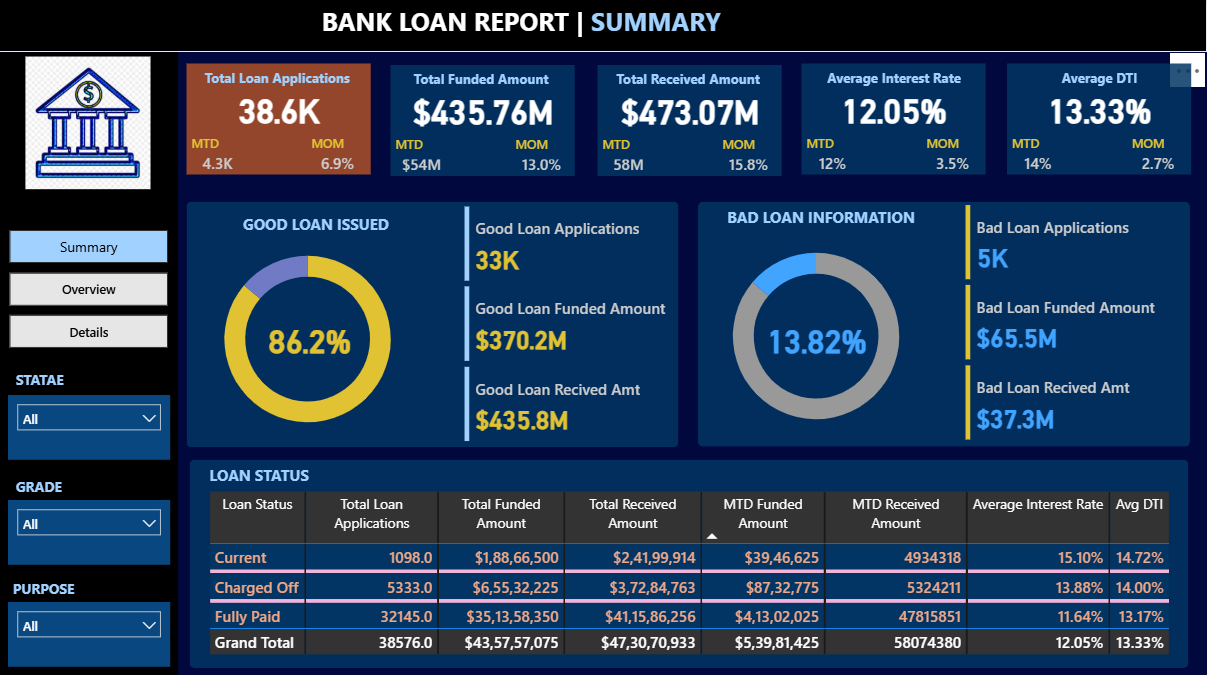

What the dashboard file says about the page in this screenshot:
{"tool":"powerbi","page":{"name":"Summary","canvas":[1280,720],"ordinal":0},"visuals":[{"type":"shape","box":[0,55.7,190,664.9],"z":0},{"type":"shape","box":[0,0,1280.4,55],"z":1000},{"type":"textbox","box":[337.2,0,470.8,55.7],"z":2000},{"type":"shape","box":[851.4,68.3,195.6,117.7],"z":3000,"group":"g5"},{"type":"shape","box":[1068.3,68.3,195.6,117.7],"z":3000,"group":"g6"},{"type":"group","id":"g1","title":"Group 1","box":[198.2,68.6,195.6,117.7],"z":3000},{"type":"shape","box":[198.2,68.6,195.6,117.7],"z":3000,"group":"g3"},{"type":"shape","box":[415.8,70,195.6,117.7],"z":3000,"group":"g2"},{"type":"shape","box":[634.4,70,195.6,117.7],"z":3000,"group":"g4"},{"type":"card","fields":{"Values":["Bank_Loan_Data.Avg Interest Rate"]},"box":[851.4,87.4,195.6,55.7],"z":4000,"group":"g5"},{"type":"card","fields":{"Values":["Bank_Loan_Data.Avg DTI"]},"box":[1068.3,87.4,195.6,55.7],"z":4000,"group":"g6"},{"type":"card","fields":{"Values":["Bank_Loan_Data.Total Loan Applications"]},"box":[198.2,87.7,195.6,55.7],"z":4000,"group":"g3"},{"type":"card","fields":{"Values":["Bank_Loan_Data.Total Funded Amount"]},"box":[415.8,89.1,195.6,55.7],"z":4000,"group":"g2"},{"type":"card","fields":{"Values":["Bank_Loan_Data.Total Amount Received"]},"box":[634.4,89.1,195.6,55.7],"z":4000,"group":"g4"},{"type":"shape","box":[198.8,214.7,521.7,260.9],"z":4000},{"type":"textbox","box":[851.4,68.3,192.5,38.2],"z":5000,"group":"g5"},{"type":"textbox","box":[1068.3,68.3,192.5,38.2],"z":5000,"group":"g6"},{"type":"textbox","box":[198.2,68.6,192.5,38.2],"z":5000,"group":"g3"},{"type":"group","id":"g2","title":"Group 2","box":[415.8,70,196.7,118.3],"z":5000},{"type":"textbox","box":[415.8,70,192.5,38.2],"z":5000,"group":"g2"},{"type":"textbox","box":[634.4,70,192.5,38.2],"z":5000,"group":"g4"},{"type":"card","title":"MTD","fields":{"Values":["Bank_Loan_Data.MTD Avg_Interest Rate"]},"box":[851.4,143.1,65.2,42.9],"z":6000,"group":"g5"},{"type":"card","title":"MTD","fields":{"Values":["Bank_Loan_Data.MTD avg dti"]},"box":[1068.3,143.1,65.2,42.9],"z":6000,"group":"g6"},{"type":"card","title":"MTD","fields":{"Values":["Bank_Loan_Data.MTD Loan Applications"]},"box":[198.2,143.4,65.2,42.9],"z":6000,"group":"g3"},{"type":"card","title":"MTD","fields":{"Values":["Bank_Loan_Data.MTD FUNDED AMOUNT"]},"box":[415.8,144.8,65.2,42.9],"z":6000,"group":"g2"},{"type":"card","title":"MTD","fields":{"Values":["Bank_Loan_Data.MTD RECIEVED TOTAL AMOUNT"]},"box":[634.4,144.8,65.2,42.9],"z":6000,"group":"g4"},{"type":"donutChart","fields":{"Category":["Bank_Loan_Data.Good vs Bad Loans"],"Y":["Bank_Loan_Data.Total Loan Applications"]},"box":[202,245,249.7,230.6],"z":6000},{"type":"card","title":"MOM","fields":{"Values":["Bank_Loan_Data.MOM Avg Interest Rate"]},"box":[978.6,143.1,65.2,42.9],"z":7000,"group":"g5"},{"type":"card","title":"MOM","fields":{"Values":["Bank_Loan_Data.MOM Avg dti"]},"box":[1195.5,143.1,65.2,42.9],"z":7000,"group":"g6"},{"type":"card","title":"MOM","fields":{"Values":["Bank_Loan_Data.MOM LOAN APPLICATIONS"]},"box":[325.4,143.4,65.2,42.9],"z":7000,"group":"g3"},{"type":"card","title":"MOM","fields":{"Values":["Bank_Loan_Data.MOM TOTAL  FUNDED AMOUNT"]},"box":[543,144.8,65.2,42.9],"z":7000,"group":"g2"},{"type":"card","title":"MOM","fields":{"Values":["Bank_Loan_Data.MOM TOTAL RECIVED AMOUNT"]},"box":[761.6,144.8,65.2,42.9],"z":7000,"group":"g4"},{"type":"card","fields":{"Values":["Bank_Loan_Data.Good Loan Percentage"]},"box":[263.3,331.7,130,56.7],"z":7000},{"type":"group","id":"g3","title":"Group 2","box":[198.2,68.6,195.6,117.7],"z":7002,"group":"g1"},{"type":"textbox","box":[240,223.3,191.7,38.3],"z":8000},{"type":"group","id":"g4","title":"Group 2","box":[634.4,70,195,116.7],"z":9000},{"type":"group","id":"g5","title":"Group 2","box":[851.4,68.3,195,116.7],"z":10000},{"type":"group","id":"g6","title":"Group 2","box":[1068.3,68.3,195,116.7],"z":11000},{"type":"shape","box":[741.7,215,521.7,260],"z":12000},{"type":"cardVisual","fields":{"Data":["Bank_Loan_Data.Good LOan Applications","Bank_Loan_Data.Good Loan Funded Amount","Bank_Loan_Data.Good Loan Recived Amt"]},"box":[488.3,214.7,245,260.9],"z":13000},{"type":"donutChart","fields":{"Category":["Bank_Loan_Data.Good vs Bad Loans"],"Y":["Bank_Loan_Data.Total Loan Applications"]},"box":[741.2,241.8,249.7,230.6],"z":14000},{"type":"textbox","box":[741.2,214.7,260.9,38.2],"z":15000},{"type":"cardVisual","fields":{"Data":["Bank_Loan_Data.Bad Loan Applications","Bank_Loan_Data.Bad Loan Funded Amount","Bank_Loan_Data.Bad Loan Recived Amt"]},"box":[1019.6,213.1,245,260.9],"z":16000},{"type":"card","fields":{"Values":["Bank_Loan_Data.Bad Loan Percentage"]},"box":[801.7,332.4,130.4,55.7],"z":17000},{"type":"shape","box":[202,488.3,1059.3,221.1],"z":18000},{"type":"tableEx","fields":{"Values":["Bank_Loan_Data.loan_status","Bank_Loan_Data.Total Loan Applications","Bank_Loan_Data.Total Funded Amount","Bank_Loan_Data.Total Amount Received","Bank_Loan_Data.MTD FUNDED AMOUNT","Bank_Loan_Data.MTD RECIEVED TOTAL AMOUNT","Bank_Loan_Data.Avg Interest Rate","Bank_Loan_Data.Avg DTI"]},"box":[217.9,516.9,1043.4,190.9],"z":19000},{"type":"textbox","box":[198.8,488.3,154.3,38.2],"z":20000},{"type":"slicer","fields":{"Values":["Bank_Loan_Data.address_state"]},"box":[9.5,419.9,171.8,68.4],"z":21000},{"type":"textbox","box":[12.7,388.1,111.3,30.2],"z":22000},{"type":"slicer","fields":{"Values":["Bank_Loan_Data.grade"]},"box":[9.5,531.3,171.8,68.4],"z":23000},{"type":"textbox","box":[12.7,501,111.3,30.2],"z":24000},{"type":"slicer","fields":{"Values":["Bank_Loan_Data.purpose"]},"box":[9.5,639.4,171.8,68.4],"z":25000},{"type":"textbox","box":[9.5,609.2,111.3,30.2],"z":26000},{"type":"image","box":[0,55.7,189.3,151.1],"z":27000},{"type":"pageNavigator","box":[11.1,245,168.6,127.2],"z":28000}]}

Visuals, with their boxes in screenshot pixels (x1, y1, x2, y2), scaled from the page's 1280x720 canvas onto the 1207x675 screenshot:
shape: detection(0, 52, 179, 674)
shape: detection(0, 0, 1206, 52)
textbox: detection(318, 0, 762, 52)
shape: detection(803, 64, 987, 174)
shape: detection(1007, 64, 1192, 174)
"Group 1" group: detection(187, 64, 371, 175)
shape: detection(187, 64, 371, 175)
shape: detection(392, 66, 577, 176)
shape: detection(598, 66, 783, 176)
card - Bank_Loan_Data.Avg Interest Rate: detection(803, 82, 987, 134)
card - Bank_Loan_Data.Avg DTI: detection(1007, 82, 1192, 134)
card - Bank_Loan_Data.Total Loan Applications: detection(187, 82, 371, 134)
card - Bank_Loan_Data.Total Funded Amount: detection(392, 84, 577, 136)
card - Bank_Loan_Data.Total Amount Received: detection(598, 84, 783, 136)
shape: detection(187, 201, 679, 446)
textbox: detection(803, 64, 984, 100)
textbox: detection(1007, 64, 1189, 100)
textbox: detection(187, 64, 368, 100)
"Group 2" group: detection(392, 66, 578, 177)
textbox: detection(392, 66, 574, 101)
textbox: detection(598, 66, 780, 101)
"MTD" card: detection(803, 134, 864, 174)
"MTD" card: detection(1007, 134, 1069, 174)
"MTD" card: detection(187, 134, 248, 175)
"MTD" card: detection(392, 136, 454, 176)
"MTD" card: detection(598, 136, 660, 176)
donutChart - Bank_Loan_Data.Good vs Bad Loans x Bank_Loan_Data.Total Loan Applications: detection(190, 230, 426, 446)
"MOM" card: detection(923, 134, 984, 174)
"MOM" card: detection(1127, 134, 1189, 174)
"MOM" card: detection(307, 134, 368, 175)
"MOM" card: detection(512, 136, 574, 176)
"MOM" card: detection(718, 136, 780, 176)
card - Bank_Loan_Data.Good Loan Percentage: detection(248, 311, 371, 364)
"Group 2" group: detection(187, 64, 371, 175)
textbox: detection(226, 209, 407, 245)
"Group 2" group: detection(598, 66, 782, 175)
"Group 2" group: detection(803, 64, 987, 173)
"Group 2" group: detection(1007, 64, 1191, 173)
shape: detection(699, 202, 1191, 445)
cardVisual - Bank_Loan_Data.Good LOan Applications x Bank_Loan_Data.Good Loan Funded Amount: detection(460, 201, 691, 446)
donutChart - Bank_Loan_Data.Good vs Bad Loans x Bank_Loan_Data.Total Loan Applications: detection(699, 227, 934, 443)
textbox: detection(699, 201, 945, 237)
cardVisual - Bank_Loan_Data.Bad Loan Applications x Bank_Loan_Data.Bad Loan Funded Amount: detection(961, 200, 1192, 444)
card - Bank_Loan_Data.Bad Loan Percentage: detection(756, 312, 879, 364)
shape: detection(190, 458, 1189, 665)
tableEx - Bank_Loan_Data.loan_status x Bank_Loan_Data.Total Loan Applications: detection(205, 485, 1189, 664)
textbox: detection(187, 458, 333, 494)
slicer - Bank_Loan_Data.address_state: detection(9, 394, 171, 458)
textbox: detection(12, 364, 117, 392)
slicer - Bank_Loan_Data.grade: detection(9, 498, 171, 562)
textbox: detection(12, 470, 117, 498)
slicer - Bank_Loan_Data.purpose: detection(9, 599, 171, 664)
textbox: detection(9, 571, 114, 599)
image: detection(0, 52, 179, 194)
pageNavigator: detection(10, 230, 169, 349)
